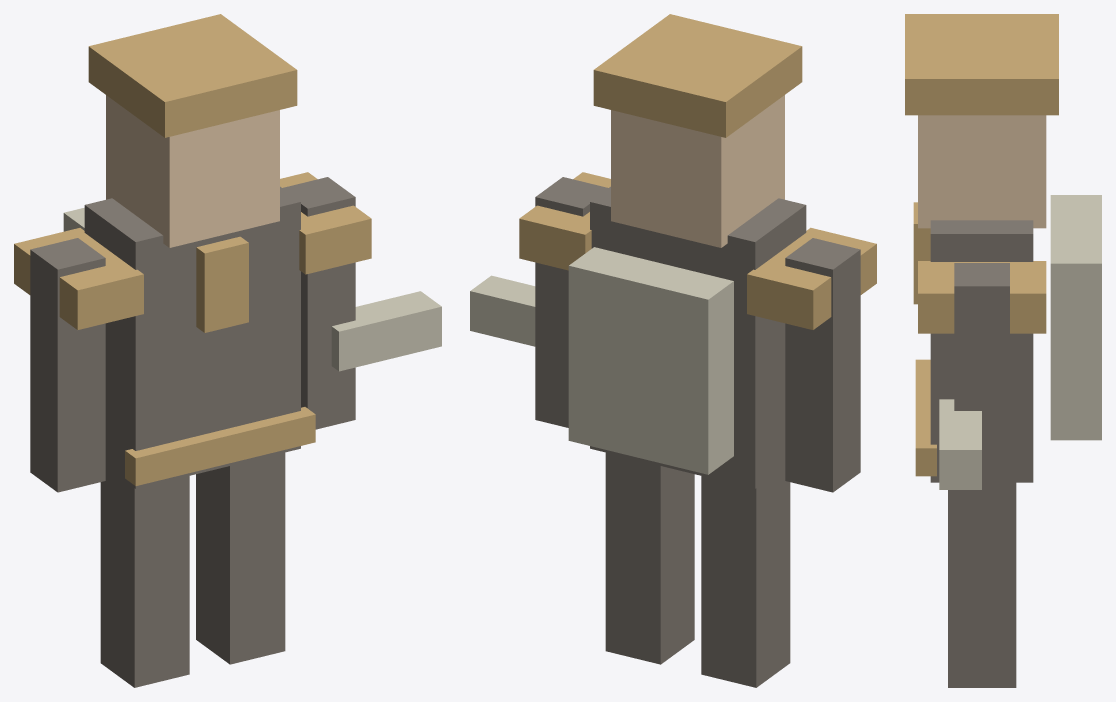
The model's file is 03_lio_trenchmark_guide_from_echo.glb.
3 views of the same model, side by side, from view 1: azimuth 30°, elevation 25°; view 2: azimuth 150°, elevation 25°; view 3: azimuth 270°, elevation 25° (orthographic).
Visible parts, largest first — view 1: Lio Trenchmark, Guide from Echo; view 2: Lio Trenchmark, Guide from Echo; view 3: Lio Trenchmark, Guide from Echo.
Boxes of the visible parts, x1,y1,x2,y2 form: Lio Trenchmark, Guide from Echo: (14, 14, 441, 687); Lio Trenchmark, Guide from Echo: (470, 14, 876, 687); Lio Trenchmark, Guide from Echo: (905, 14, 1101, 687).
Bounding box in the file's own units: 1.11 × 1.69 × 0.4976.
